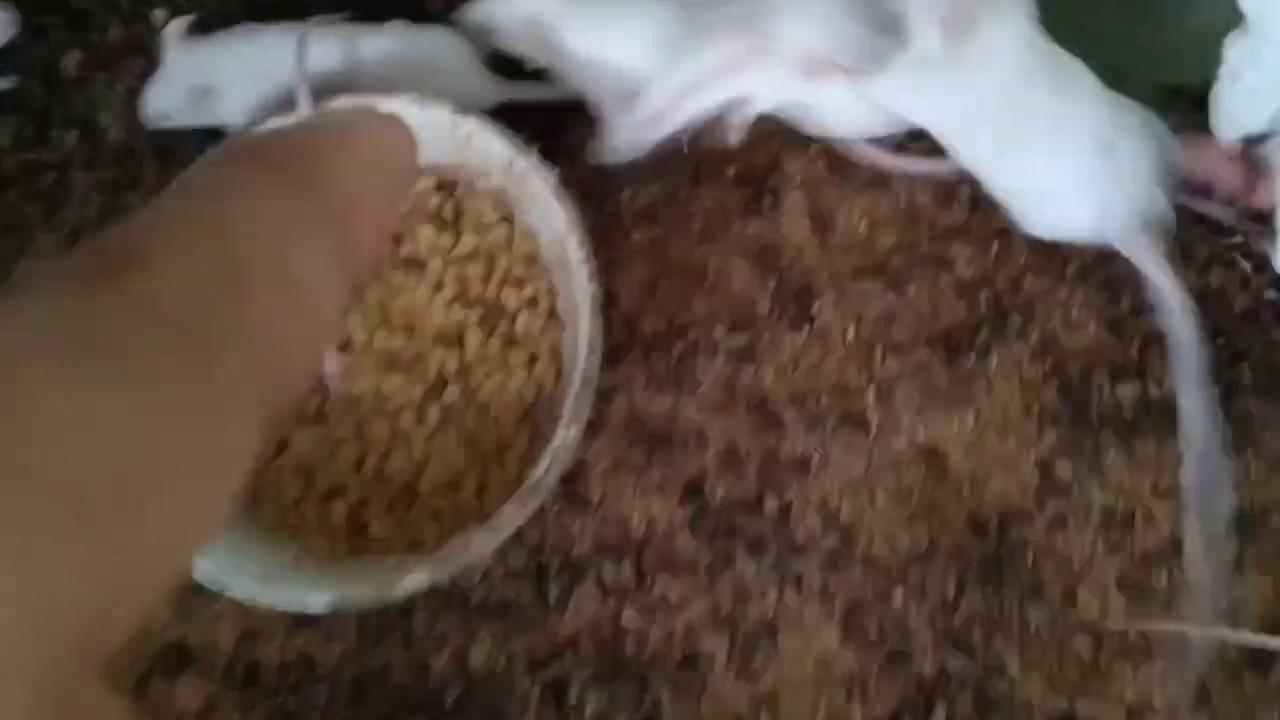rat: (138, 15, 578, 131)
